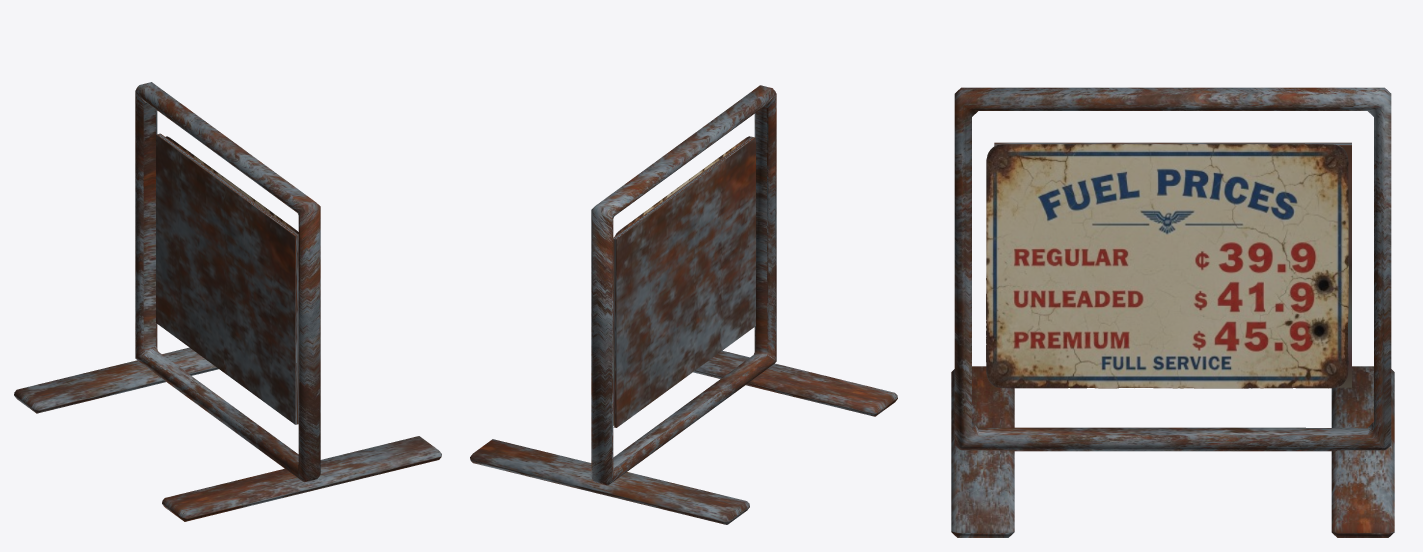
The model's file is PriceSign.fbx.
3 renders of one model, left to right at view 1: azimuth 30°, elevation 25°; view 2: azimuth 150°, elevation 25°; view 3: azimuth 270°, elevation 25°, orthographic. The views are drawn at different scales.
Parts seen in each view (by area): view 1: PriceSign; view 2: PriceSign; view 3: poob, PriceSign.
Part boxes in pixels (x1,y1,x2,y2): PriceSign: (14,82,441,521); PriceSign: (470,85,897,524); poob: (986,144,1348,388); PriceSign: (951,87,1394,537).
Size of the model in its own units: 130 by 185 by 163.
